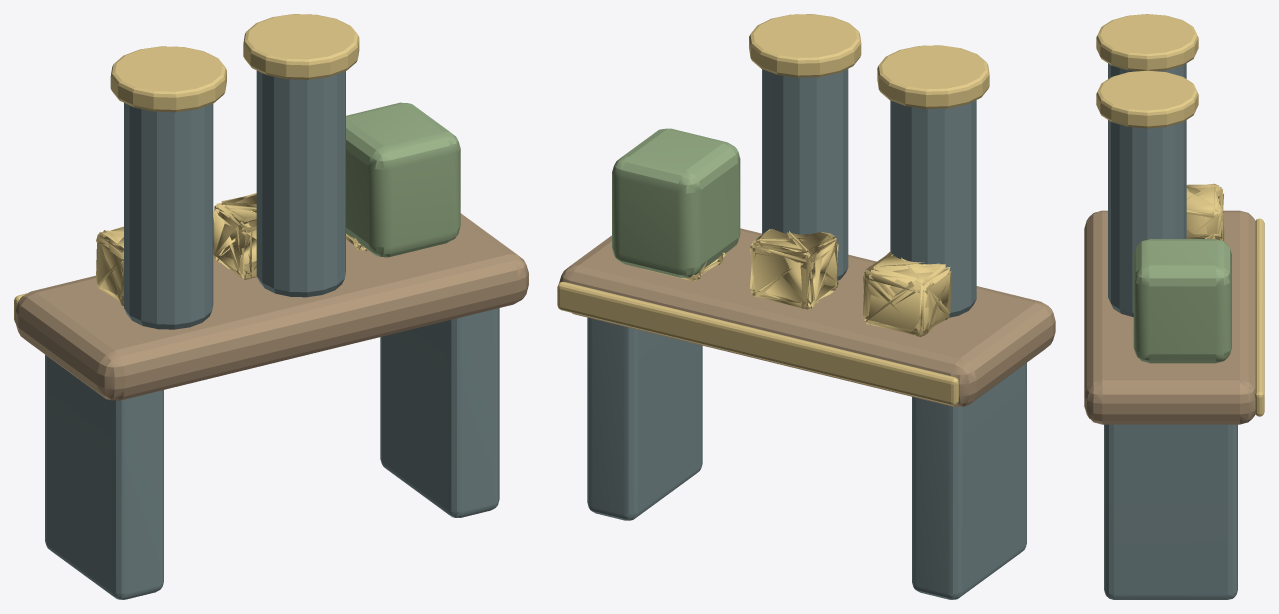
Rendered from station_breaker.glb.
3 views of the same model, side by side, from view 1: azimuth 30°, elevation 25°; view 2: azimuth 150°, elevation 25°; view 3: azimuth 270°, elevation 25° (orthographic). The views are drawn at different scales.
Parts seen in each view (by area): view 1: Surface_WorldMetal, Surface_WorldWood, Surface_WorldOlive, Surface_WorldBrass, SupplyToken1, SupplyToken0; view 2: Surface_WorldMetal, Surface_WorldWood, Surface_WorldBrass, Surface_WorldOlive, SupplyToken1, SupplyToken0; view 3: Surface_WorldMetal, Surface_WorldWood, Surface_WorldOlive, Surface_WorldBrass, SupplyToken0.
Part boxes in pixels (x1,y1,x2,y2): Surface_WorldMetal: [45, 70, 499, 599]; Surface_WorldWood: [15, 213, 528, 400]; Surface_WorldOlive: [346, 102, 460, 257]; Surface_WorldBrass: [14, 14, 359, 322]; SupplyToken1: [213, 193, 256, 279]; SupplyToken0: [96, 226, 123, 306]; Surface_WorldMetal: [587, 69, 1026, 599]; Surface_WorldWood: [559, 228, 1055, 406]; Surface_WorldBrass: [557, 14, 989, 405]; Surface_WorldOlive: [612, 128, 740, 277]; SupplyToken1: [750, 229, 838, 309]; SupplyToken0: [863, 251, 951, 336]; Surface_WorldMetal: [1104, 63, 1237, 599]; Surface_WorldWood: [1084, 210, 1255, 424]; Surface_WorldOlive: [1133, 239, 1231, 363]; Surface_WorldBrass: [1096, 14, 1264, 416]; SupplyToken0: [1186, 183, 1224, 240].
Bounding box in the file's own units: 1.1 × 1.22 × 0.4575.
